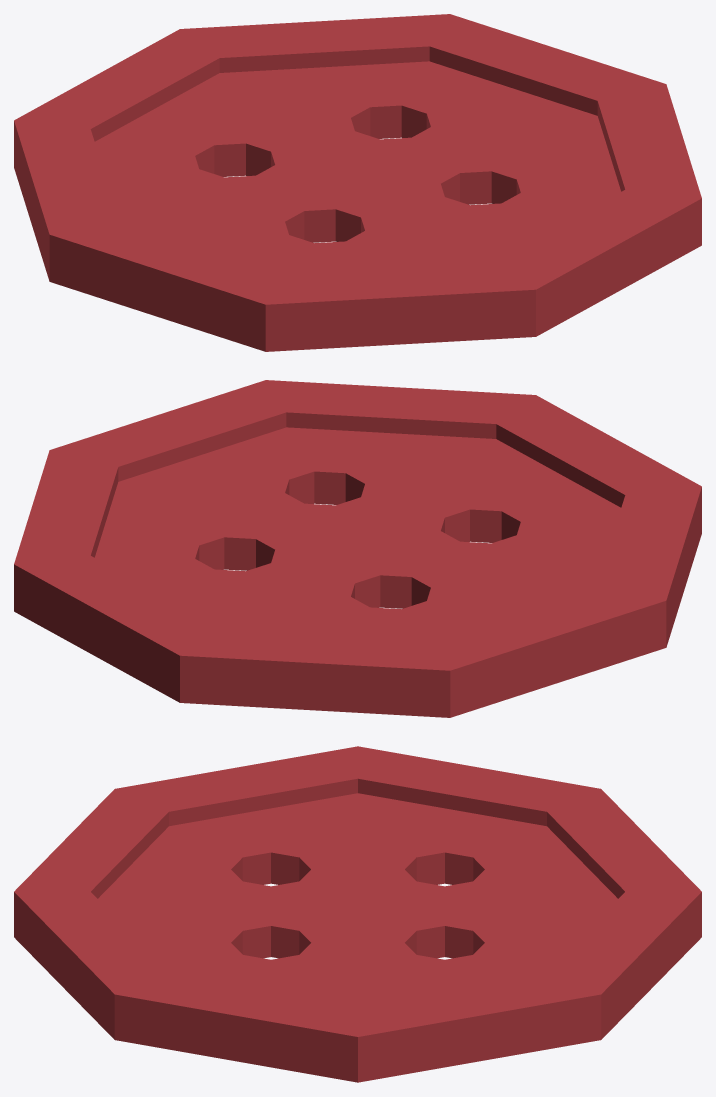
File: SM_Button_03.fbx
3 views of the same model, one above another, from view 1: azimuth 30°, elevation 25°; view 2: azimuth 150°, elevation 25°; view 3: azimuth 270°, elevation 25° (orthographic). The views are drawn at different scales.
Parts seen in each view (by area): view 1: Button_03; view 2: Button_03; view 3: Button_03.
Part boxes in pixels (x1=…): Button_03: x1=14, y1=14, x2=701, y2=351; Button_03: x1=14, y1=380, x2=701, y2=717; Button_03: x1=14, y1=746, x2=701, y2=1082.
Size of the model in its own units: 87.4 by 6.39 by 87.4.
